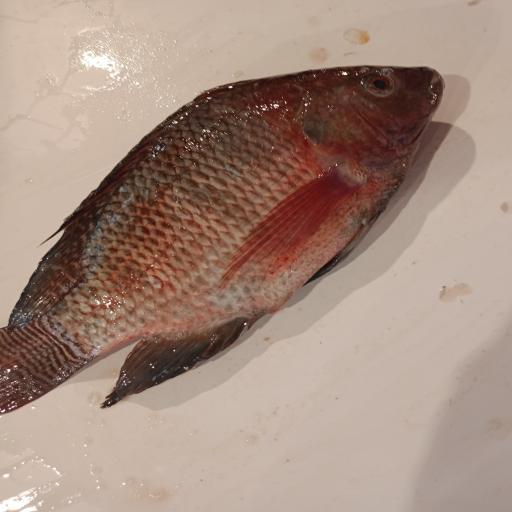Tilapia: (0, 65, 445, 415)
